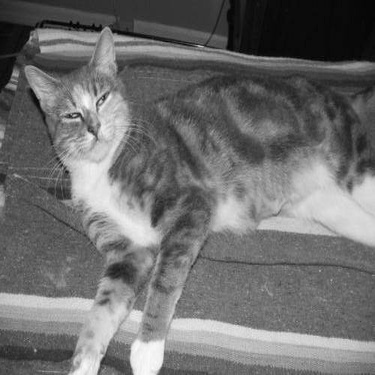cat: (5, 4, 370, 371)
